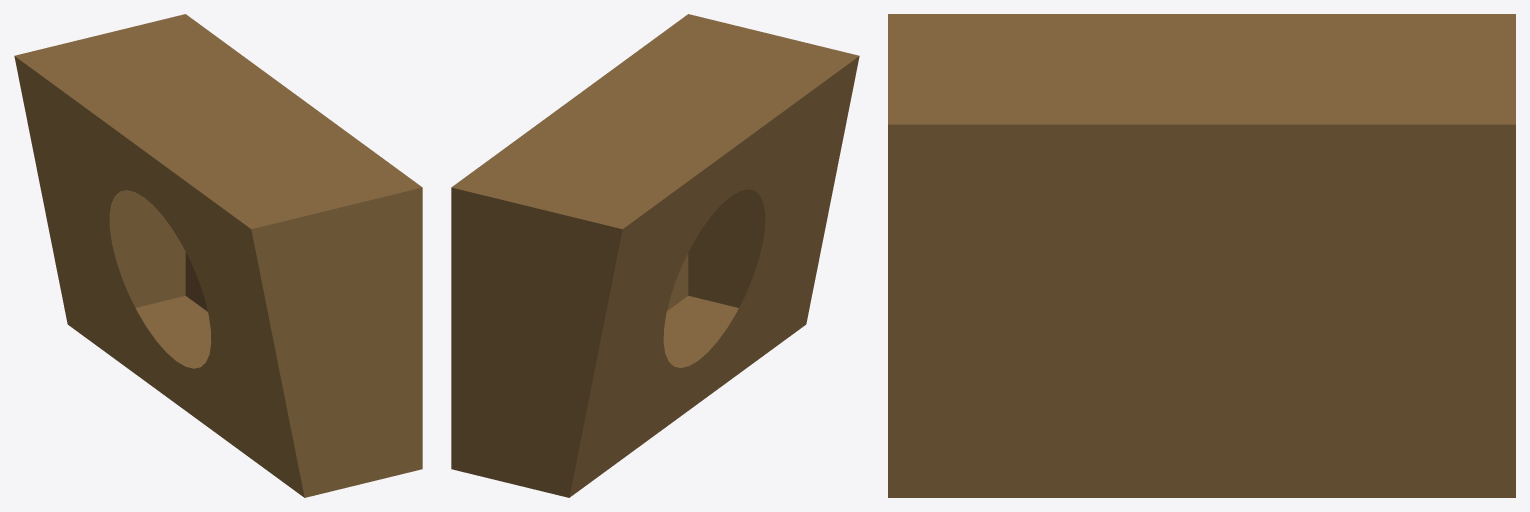
File: Speaker.fbx
The picture shows the model from 3 angles, left to right: view 1: azimuth 30°, elevation 25°; view 2: azimuth 150°, elevation 25°; view 3: azimuth 270°, elevation 25°; orthographic projection. The views are drawn at different scales.
Parts seen in each view (by area): view 1: 003.front-speaker; view 2: 003.front-speaker; view 3: 003.front-speaker.
Part boxes in pixels (<box>): 003.front-speaker: <box>14,14,422,497</box>; 003.front-speaker: <box>451,14,859,497</box>; 003.front-speaker: <box>888,14,1515,497</box>.
Bounding box in the file's own units: 20 × 31.42 × 47.91.
